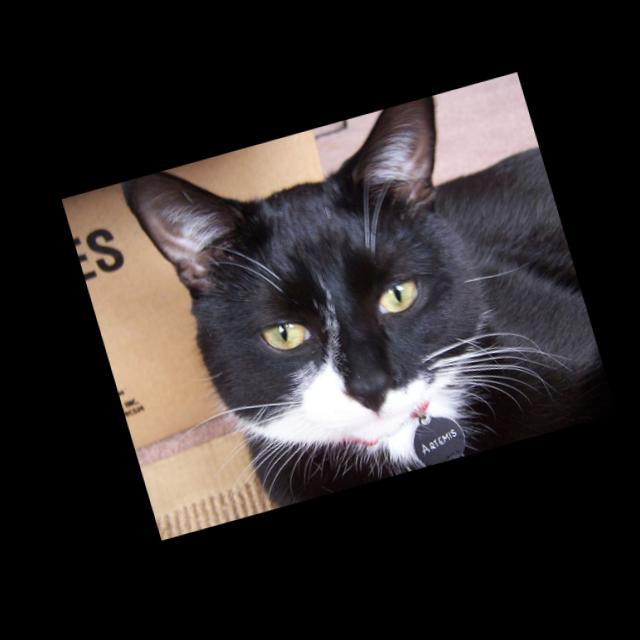animals: (123, 100, 498, 458)
